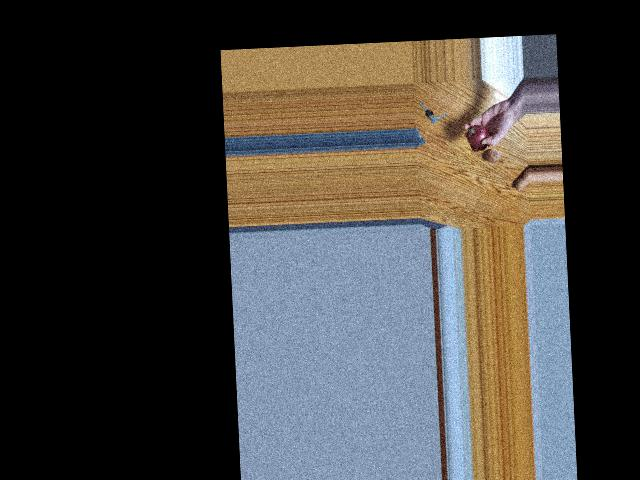onion: (485, 142, 501, 165)
